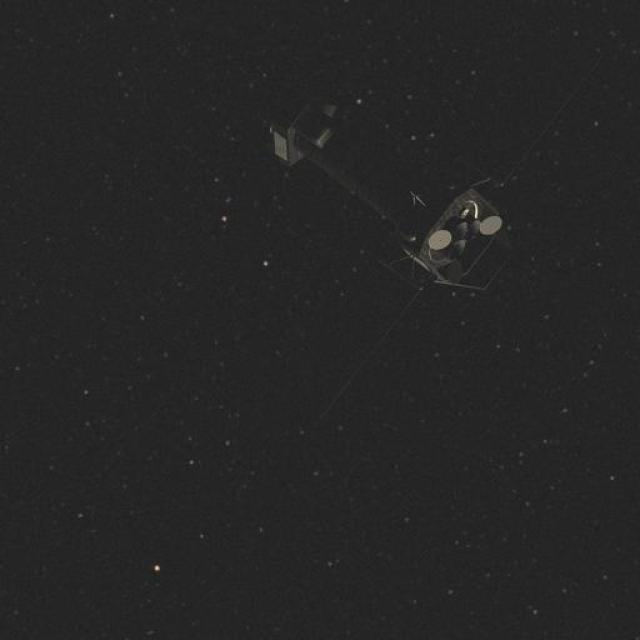xmm_newton: (282, 77, 496, 295)
